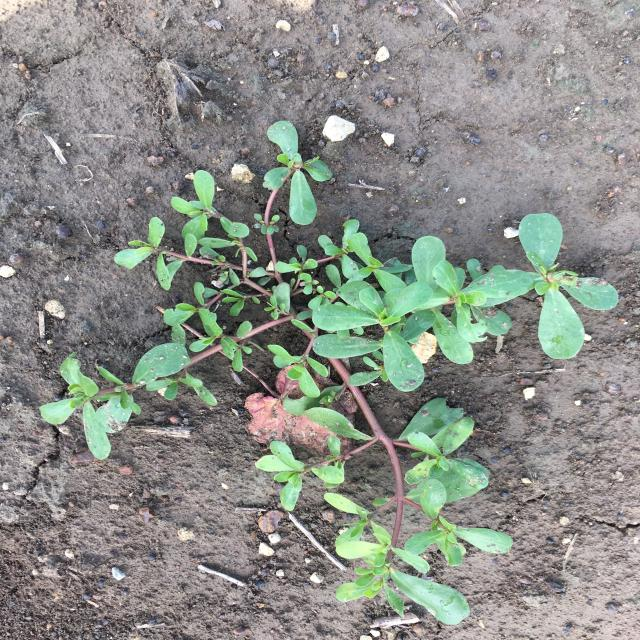Purslane: (39, 120, 619, 626)
